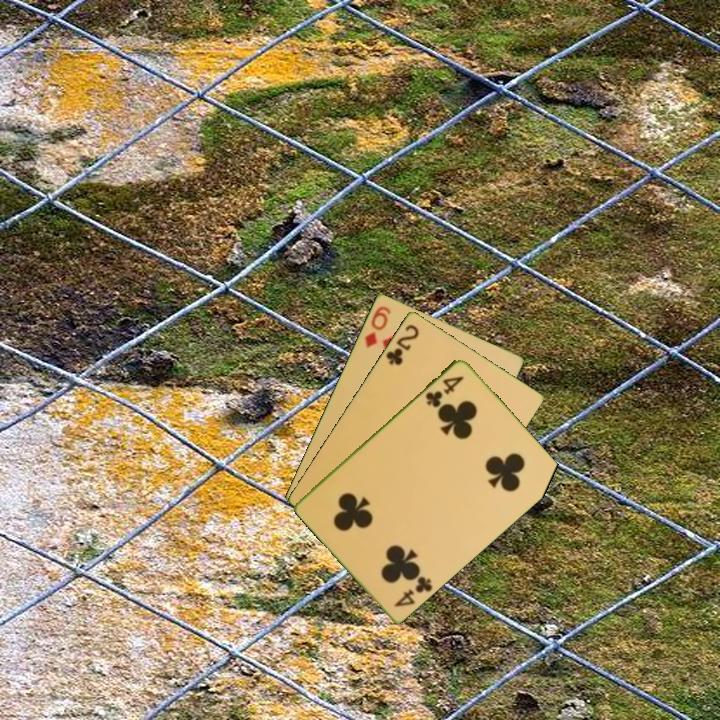2c: (382, 320, 422, 368)
4c: (421, 372, 467, 410), (390, 572, 435, 609)
6d: (361, 302, 393, 351)
